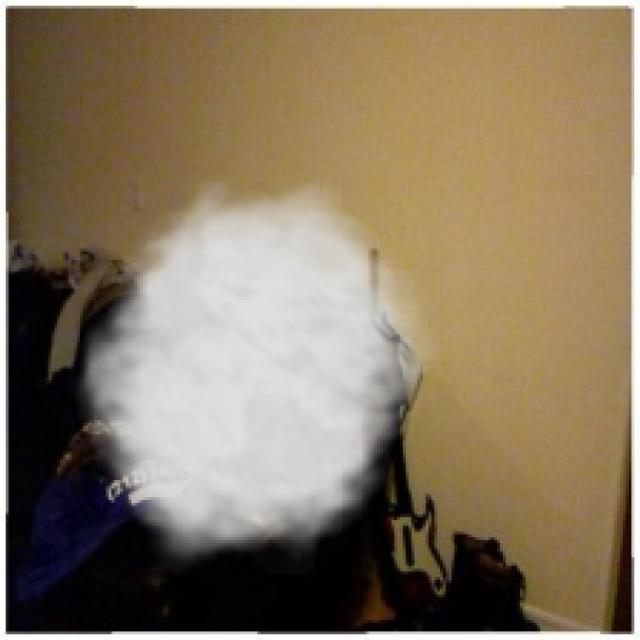Smoke: (68, 177, 443, 574)
